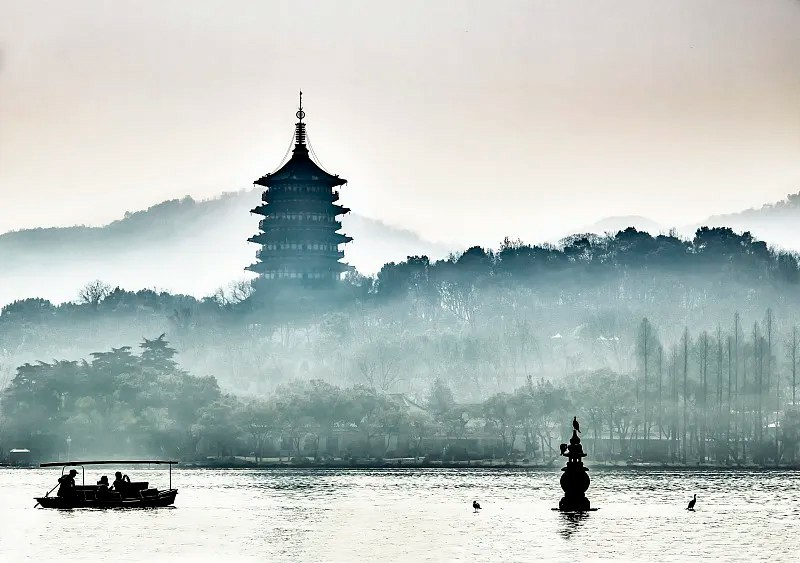Leifeng: (244, 86, 356, 317)
